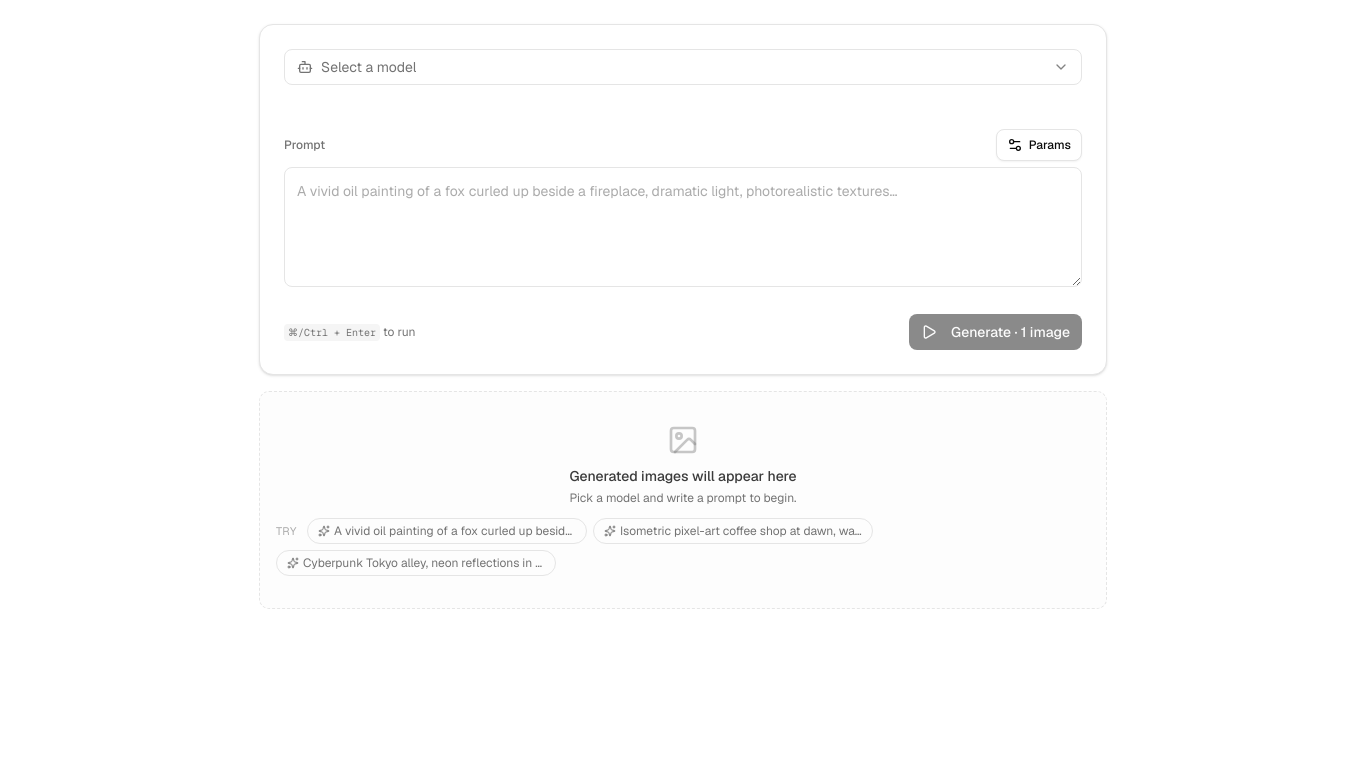
Test case: ImagePlayground — family-conditional params popover › shows every field for a generic/unrecognised model family
Click the button "Params". click: (1039, 145)
box: [996, 129, 1082, 161]
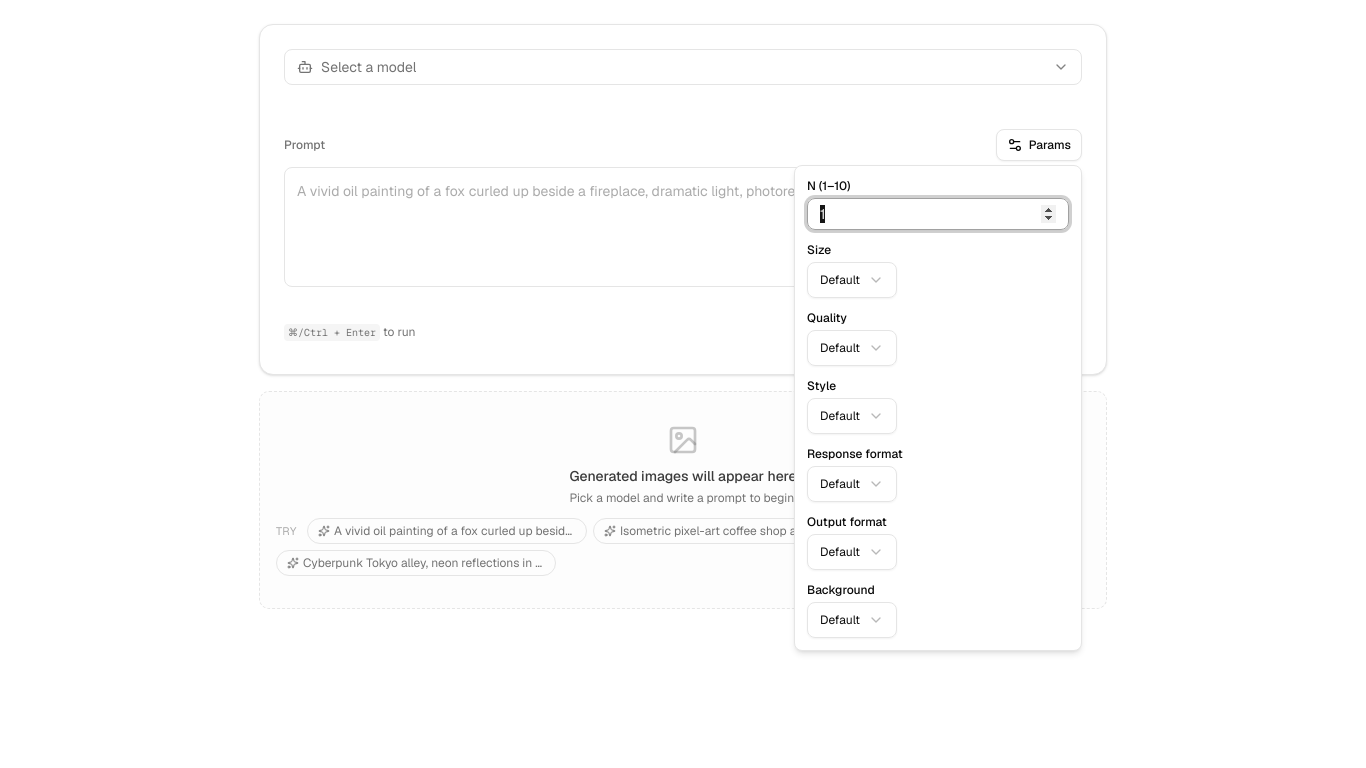
Result: the text "Style" is shown at [807, 378, 836, 394]
Result: the text "Response format" is shown at [807, 446, 903, 462]
Result: the text "Output format" is shown at [807, 514, 887, 530]
